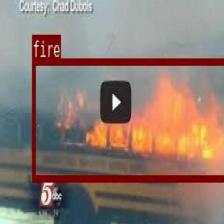fire: (32, 57, 224, 180)
